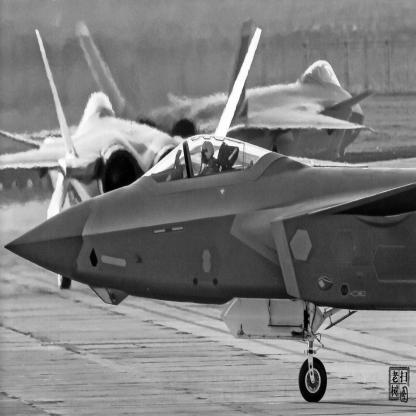J20: (4, 134, 416, 404), (1, 27, 370, 291), (14, 18, 380, 163)
